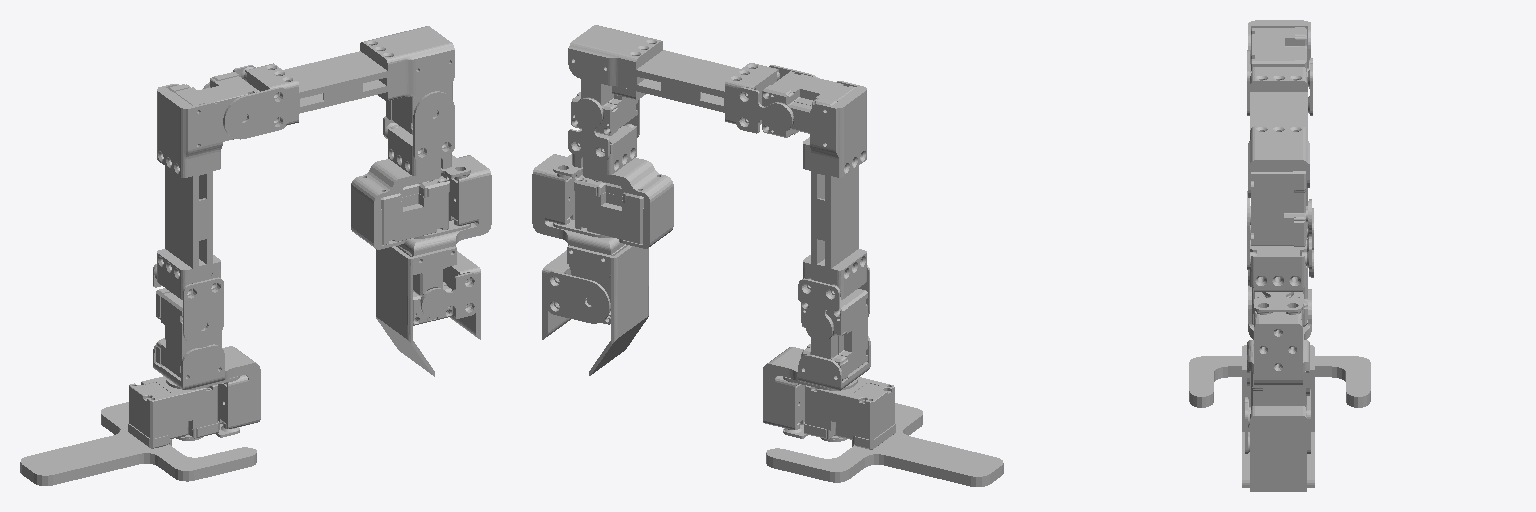
The robot description file, URDF, robot "tiny_arm":
<?xml version="1.0" encoding="utf-8"?>
<!-- This URDF was automatically created by SolidWorks to URDF Exporter! Originally created by [author] ([email redacted]) 
     Commit Version: 1.6.0-4-g7f85cfe  Build Version: 1.6.7995.38578
     For more information, please see http://wiki.ros.org/sw_urdf_exporter -->
<robot
  name="tiny_arm">
  <link
    name="base_link">
    <inertial>
      <origin
        xyz="0.0154467805480835 0.0617826350820096 -0.00657215799919838"
        rpy="0 0 0" />
      <mass
        value="0.0311295408005772" />
      <inertia
        ixx="9.61850539406232E-06"
        ixy="-3.41397131319374E-07"
        ixz="1.35811729232709E-08"
        iyy="5.87428472795033E-06"
        iyz="1.24564966819691E-07"
        izz="1.49727117910579E-05" />
    </inertial>
    <visual>
      <origin
        xyz="0 0 0"
        rpy="0 0 0" />
      <geometry>
        <mesh
          filename="package://tiny_arm_description/meshes/base_link.STL" />
      </geometry>
      <material
        name="">
        <color
          rgba="0.752941176470588 0.752941176470588 0.752941176470588 1" />
      </material>
    </visual>
    <collision>
      <origin
        xyz="0 0 0"
        rpy="0 0 0" />
      <geometry>
        <mesh
          filename="package://tiny_arm_description/meshes/base_link.STL" />
      </geometry>
    </collision>
  </link>
  <link
    name="link_1">
    <inertial>
      <origin
        xyz="-0.000917664715746658 -0.00609018632506213 0.0341239009174026"
        rpy="0 0 0" />
      <mass
        value="0.0315990079709892" />
      <inertia
        ixx="4.88599172142966E-06"
        ixy="3.3905615372196E-08"
        ixz="1.59741577599758E-07"
        iyy="3.4848390304125E-06"
        iyz="-6.33969190443303E-07"
        izz="2.98009994928766E-06" />
    </inertial>
    <visual>
      <origin
        xyz="0 0 0"
        rpy="0 0 1.5708" />
      <geometry>
        <mesh
          filename="package://tiny_arm_description/meshes/link_1.STL" />
      </geometry>
      <material
        name="">
        <color
          rgba="0.752941176470588 0.752941176470588 0.752941176470588 1" />
      </material>
    </visual>
    <collision>
      <origin
        xyz="0 0 0"
        rpy="0 0 0" />
      <geometry>
        <mesh
          filename="package://tiny_arm_description/meshes/link_1.STL" />
      </geometry>
    </collision>
  </link>
  <joint
    name="joint_0"
    type="revolute">
    <origin
      xyz="0.030564 0 0"
      rpy="0 0 0" />
    <parent
      link="base_link" />
    <child
      link="link_1" />
    <axis
      xyz="0 0 1" />
    <limit
      lower="-1.5708"
      upper="1.5708"
      effort="0"
      velocity="0" />
  </joint>
  <link
    name="link_2">
    <inertial>
      <origin
        xyz="0.0713763546242842 0.00483805981889288 -0.000976639880138186"
        rpy="0 0 0" />
      <mass
        value="0.0393420153339328" />
      <inertia
        ixx="3.57757235620135E-06"
        ixy="1.33277861314988E-07"
        ixz="1.37357587922023E-08"
        iyy="5.068190815664E-06"
        iyz="1.3611946862898E-07"
        izz="6.26901806483158E-06" />
    </inertial>
    <visual>
      <origin
        xyz="0 0 0"
        rpy="0 0 0" />
      <geometry>
        <mesh
          filename="package://tiny_arm_description/meshes/link_2.STL" />
      </geometry>
      <material
        name="">
        <color
          rgba="0.752941176470588 0.752941176470588 0.752941176470588 1" />
      </material>
    </visual>
    <collision>
      <origin
        xyz="0 0 0"
        rpy="0 0 0" />
      <geometry>
        <mesh
          filename="package://tiny_arm_description/meshes/link_2.STL" />
      </geometry>
    </collision>
  </link>
  <joint
    name="joint_1"
    type="revolute">
    <origin
      xyz="0 0 0.054388"
      rpy="0 -1.5708 -1.5708" />
    <parent
      link="link_1" />
    <child
      link="link_2" />
    <axis
      xyz="0 0 1" />
    <limit
      lower="-1.5708"
      upper="1.5708"
      effort="0"
      velocity="0" />
  </joint>
  <link
    name="link_3">
    <inertial>
      <origin
        xyz="0.0713763539881609 0.00483806015618365 -0.00122663977194525"
        rpy="0 0 0" />
      <mass
        value="0.0393420146276656" />
      <inertia
        ixx="3.57757233469777E-06"
        ixy="1.33277844658963E-07"
        ixz="1.37357104395959E-08"
        iyy="5.0681907165178E-06"
        iyz="1.3611952615972E-07"
        izz="6.26901800728853E-06" />
    </inertial>
    <visual>
      <origin
        xyz="0 0 0"
        rpy="0 0 0" />
      <geometry>
        <mesh
          filename="package://tiny_arm_description/meshes/link_3.STL" />
      </geometry>
      <material
        name="">
        <color
          rgba="0.752941176470588 0.752941176470588 0.752941176470588 1" />
      </material>
    </visual>
    <collision>
      <origin
        xyz="0 0 0"
        rpy="0 0 0" />
      <geometry>
        <mesh
          filename="package://tiny_arm_description/meshes/link_3.STL" />
      </geometry>
    </collision>
  </link>
  <joint
    name="joint_2"
    type="revolute">
    <origin
      xyz="0.0945 0.02 0"
      rpy="0 0 1.5708" />
    <parent
      link="link_2" />
    <child
      link="link_3" />
    <axis
      xyz="0 0 1" />
    <limit
      lower="-1.5708"
      upper="1.5708"
      effort="0"
      velocity="0" />
  </joint>
  <link
    name="link_4">
    <inertial>
      <origin
        xyz="0.0398508027127943 0.00809953663378277 -0.000712893493436569"
        rpy="0 0 0" />
      <mass
        value="0.0299046982275022" />
      <inertia
        ixx="3.81641677405745E-06"
        ixy="-3.83715192939399E-07"
        ixz="1.29736954972125E-09"
        iyy="2.14217625921131E-06"
        iyz="2.31306348511874E-09"
        izz="3.90749944172359E-06" />
    </inertial>
    <visual>
      <origin
        xyz="0 0 0"
        rpy="0 0 0" />
      <geometry>
        <mesh
          filename="package://tiny_arm_description/meshes/link_4.STL" />
      </geometry>
      <material
        name="">
        <color
          rgba="0.752941176470588 0.752941176470588 0.752941176470588 1" />
      </material>
    </visual>
    <collision>
      <origin
        xyz="0 0 0"
        rpy="0 0 0" />
      <geometry>
        <mesh
          filename="package://tiny_arm_description/meshes/link_4.STL" />
      </geometry>
    </collision>
  </link>
  <joint
    name="joint_3"
    type="revolute">
    <origin
      xyz="0.0945 0.02 0"
      rpy="0 0 1.5708" />
    <parent
      link="link_3" />
    <child
      link="link_4" />
    <axis
      xyz="0 0 1" />
    <limit
      lower="-1.5708"
      upper="0.8"
      effort="0"
      velocity="0" />
  </joint>
  <link
    name="link_5">
    <inertial>
      <origin
        xyz="0.00433924968521118 0.000813706093652646 -0.0388886758445833"
        rpy="0 0 0" />
      <mass
        value="0.0356371975583549" />
      <inertia
        ixx="5.14183793237405E-06"
        ixy="3.39154198103064E-08"
        ixz="-6.2640794575206E-07"
        iyy="6.29010686359569E-06"
        iyz="1.59741907308679E-07"
        izz="3.47917242294778E-06" />
    </inertial>
    <visual>
      <origin
        xyz="0 0 0"
        rpy="0 0 0" />
      <geometry>
        <mesh
          filename="package://tiny_arm_description/meshes/link_5.STL" />
      </geometry>
      <material
        name="">
        <color
          rgba="0.752941176470588 0.752941176470588 0.752941176470588 1" />
      </material>
    </visual>
    <collision>
      <origin
        xyz="0 0 0"
        rpy="0 0 0" />
      <geometry>
        <mesh
          filename="package://tiny_arm_description/meshes/link_5.STL" />
      </geometry>
    </collision>
  </link>
  <joint
    name="joint_4"
    type="revolute">
    <origin
      xyz="0.032925 0 -0.0007"
      rpy="1.5708 0 -1.5708" />
    <parent
      link="link_4" />
    <child
      link="link_5" />
    <axis
      xyz="0 0 1" />
    <limit
      lower="-1.5708"
      upper="1.5708"
      effort="0"
      velocity="0" />
  </joint>
  <link
    name="gripper">
    <inertial>
      <origin
        xyz="0.0156347894773499 0.00184400224009498 0.000371482631719646"
        rpy="0 0 0" />
      <mass
        value="0.00610588751342825" />
      <inertia
        ixx="4.94658913192892E-07"
        ixy="-3.20244027819836E-08"
        ixz="7.88582408884343E-10"
        iyy="3.49289475002E-07"
        iyz="1.93347703233535E-13"
        izz="5.03675998094634E-07" />
    </inertial>
    <visual>
      <origin
        xyz="0 0 0"
        rpy="0 0 0" />
      <geometry>
        <mesh
          filename="package://tiny_arm_description/meshes/gripper.STL" />
      </geometry>
      <material
        name="">
        <color
          rgba="0.752941176470588 0.752941176470588 0.752941176470588 1" />
      </material>
    </visual>
    <collision>
      <origin
        xyz="0 0 0"
        rpy="0 0 0" />
      <geometry>
        <mesh
          filename="package://tiny_arm_description/meshes/gripper.STL" />
      </geometry>
    </collision>
  </link>
  <joint
    name="joint_gripper"
    type="revolute">
    <origin
      xyz="0 0 -0.056838"
      rpy="-1.5708 0 0" />
    <parent
      link="link_5" />
    <child
      link="gripper" />
    <axis
      xyz="0 0 1" />
    <limit
      lower="0"
      upper="0.6"
      effort="0"
      velocity="0" />
  </joint>
</robot>

--- What the picture shows (computed from the rendered views, not written in the file) ---
Views: 3 orthographic renders of the robot side by side, from view 1: azimuth 30°, elevation 25°; view 2: azimuth 150°, elevation 25°; view 3: azimuth 270°, elevation 25°.
Robot: tiny_arm — 7 links, 6 joints (6 revolute); root link base_link; default pose: every joint at zero.
Visible links, largest first — view 1: link_2, link_3, base_link, link_4, link_5, link_1, gripper; view 2: link_2, link_3, base_link, link_4, link_5, link_1, gripper; view 3: link_3, link_5, gripper, base_link, link_4, link_2, link_1.
Boxes of the visible links, left/top/right/bottom form: link_2: left=153, top=72, right=259, bottom=347; link_3: left=203, top=26, right=454, bottom=139; base_link: left=20, top=376, right=256, bottom=485; link_4: left=351, top=91, right=454, bottom=249; link_5: left=376, top=155, right=491, bottom=376; link_1: left=153, top=288, right=260, bottom=440; gripper: left=421, top=251, right=480, bottom=339; link_2: left=762, top=71, right=869, bottom=341; link_3: left=568, top=25, right=817, bottom=135; base_link: left=766, top=377, right=1003, bottom=486; link_4: left=568, top=98, right=673, bottom=248; link_5: left=532, top=154, right=648, bottom=375; link_1: left=763, top=289, right=870, bottom=441; gripper: left=542, top=250, right=610, bottom=339; link_3: left=1247, top=50, right=1312, bottom=246; link_5: left=1242, top=292, right=1314, bottom=487; gripper: left=1245, top=389, right=1310, bottom=491; base_link: left=1189, top=356, right=1370, bottom=407; link_4: left=1247, top=191, right=1311, bottom=313; link_2: left=1248, top=20, right=1313, bottom=285; link_1: left=1248, top=238, right=1311, bottom=339.
Bounding box of the posed robot: 0.2245 × 0.0745 × 0.1644 m (x, y, z).
Meshes: 7 distinct files referenced, 7 mesh visuals loaded (7 binary STL).